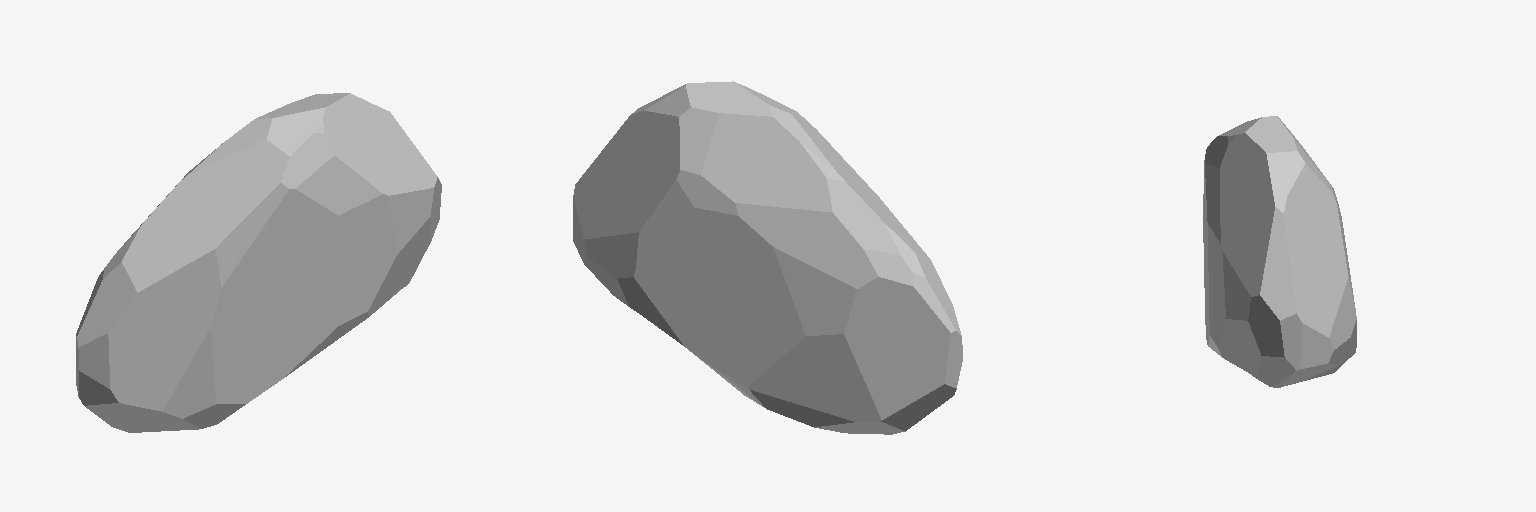
The model's file is rockRed.obj.
The picture shows the model from 3 angles: view 1: azimuth 30°, elevation 25°; view 2: azimuth 150°, elevation 25°; view 3: azimuth 270°, elevation 25°; orthographic projection.
Visible parts, largest first — view 1: Icosphere.002_Material_0; view 2: Icosphere.002_Material_0; view 3: Icosphere.002_Material_0.
Part boxes in pixels (x1,y1,x2,y2): Icosphere.002_Material_0: (76,93,441,432); Icosphere.002_Material_0: (573,81,962,434); Icosphere.002_Material_0: (1203,116,1356,387).
Size of the model in its own units: 18.93 by 14.48 by 6.78.